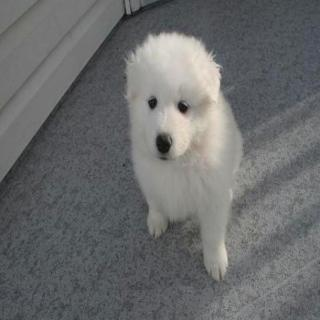dog: (117, 32, 222, 173)
nose: (153, 130, 175, 156)
